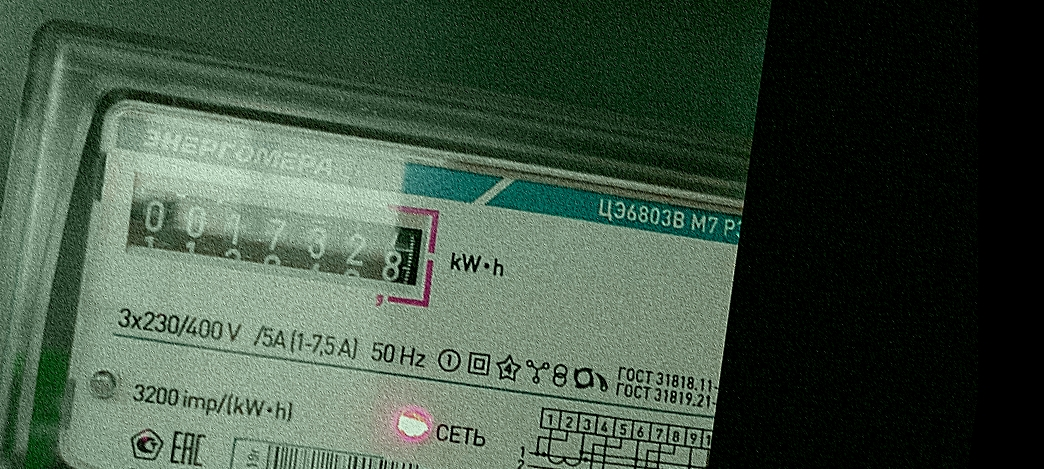0: (143, 194, 169, 234), (184, 202, 209, 238)
1: (226, 207, 246, 245)
2: (343, 229, 369, 267)
3: (304, 222, 331, 260)
7: (262, 212, 291, 253)
8: (380, 245, 404, 283)
screen: (113, 166, 446, 310)
